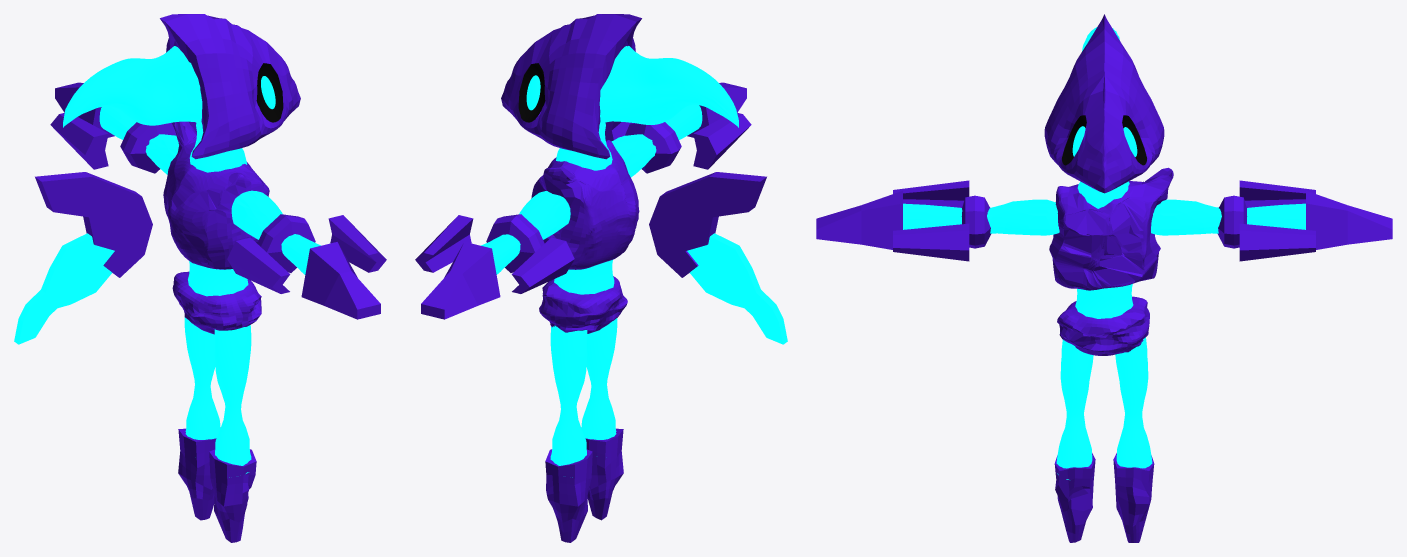
The model's file is Enemy (1).fbx.
3 views of the same model, side by side, from view 1: azimuth 30°, elevation 25°; view 2: azimuth 150°, elevation 25°; view 3: azimuth 270°, elevation 25° (orthographic). The views are drawn at different scales.
Visible parts, largest first — view 1: Feet.Highpoly, Hair, Eye; view 2: Feet.Highpoly, Hair, Eye; view 3: Feet.Highpoly, Hair, Eye.
Part boxes in pixels (left/top/right/bottom): Feet.Highpoly: left=35, top=14, right=386, bottom=542; Hair: left=14, top=46, right=320, bottom=477; Eye: left=256, top=63, right=283, bottom=122; Feet.Highpoly: left=415, top=14, right=766, bottom=542; Hair: left=481, top=46, right=787, bottom=477; Eye: left=518, top=63, right=545, bottom=122; Feet.Highpoly: left=816, top=14, right=1392, bottom=542; Hair: left=903, top=27, right=1305, bottom=479; Eye: left=1062, top=115, right=1146, bottom=165.
Bounding box in the file's own units: 477 × 841 × 878.
